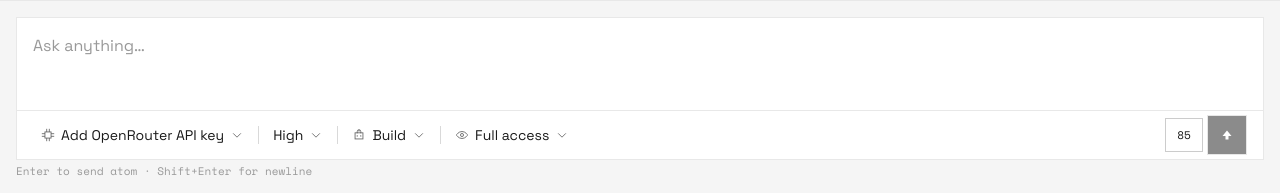
WorkspaceComposer › closes dropdown on Escape
Step 1. Click the button "Add OpenRouter API key" → (143, 135), box [33,119,252,151]
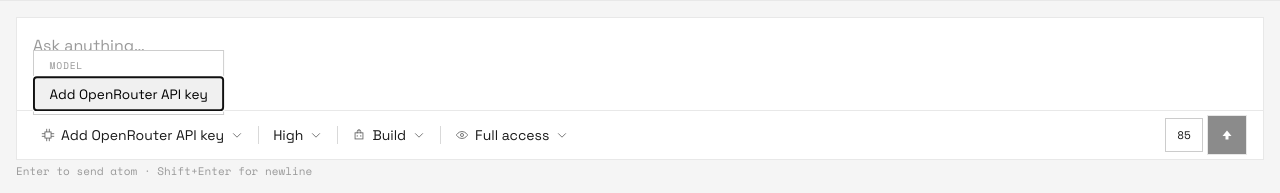
Check: the list "Model" is shown
Step 2. Press Escape in the list "Model", box [33,50,224,115]
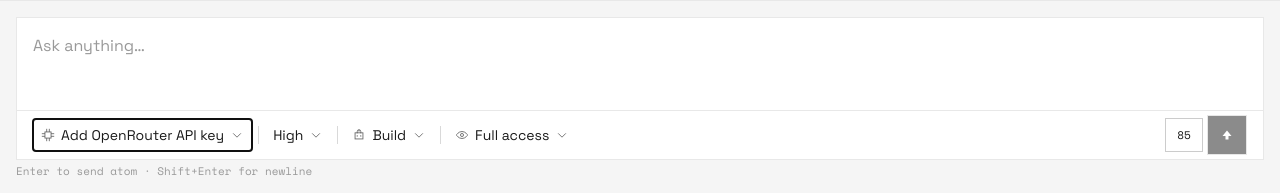
Check: the text "Model" is gone
